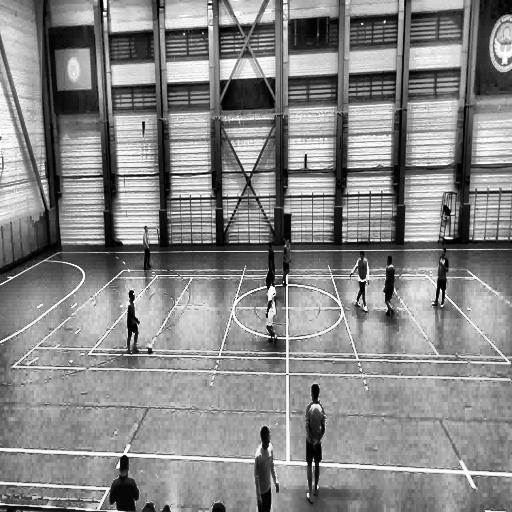ball: (147, 342, 152, 352)
player: (306, 386, 326, 502), (256, 424, 280, 511), (352, 251, 370, 313), (430, 247, 448, 307), (125, 288, 140, 353), (264, 276, 277, 346), (384, 255, 395, 319), (264, 240, 276, 284), (282, 237, 291, 288), (142, 225, 152, 270)
